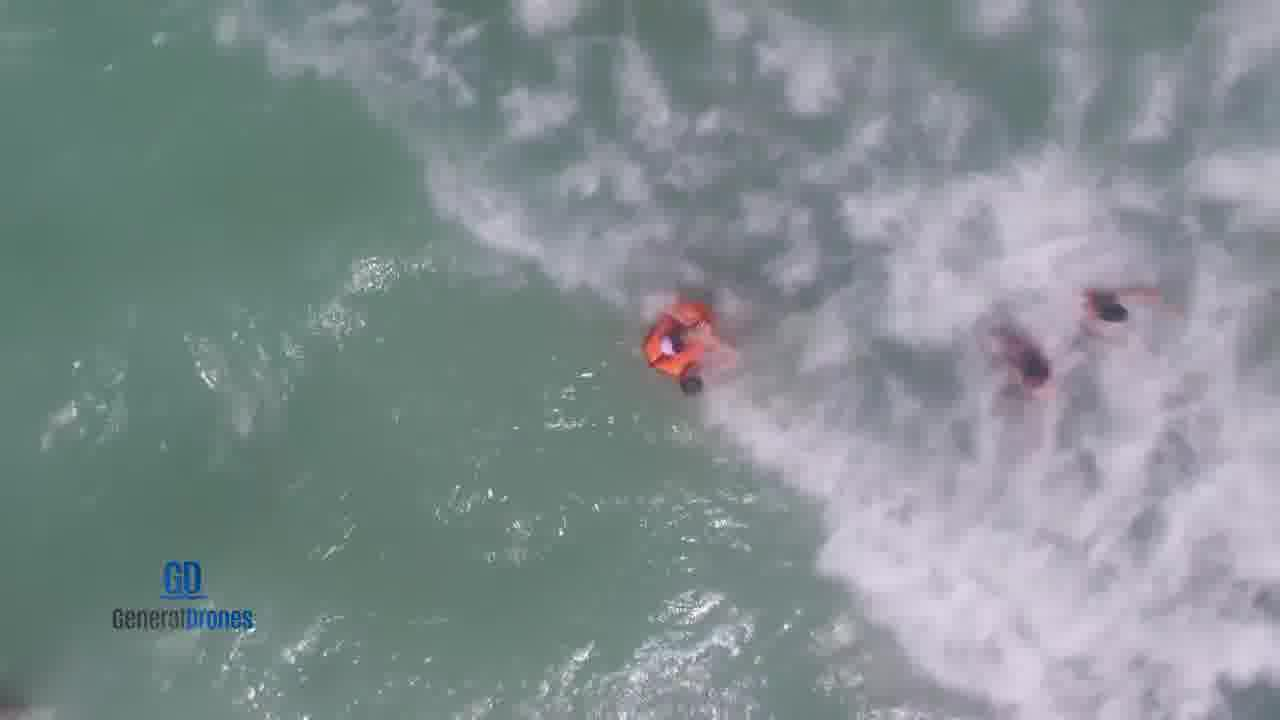swimmer: (650, 278, 736, 407), (978, 329, 1077, 424), (1082, 274, 1169, 349)
